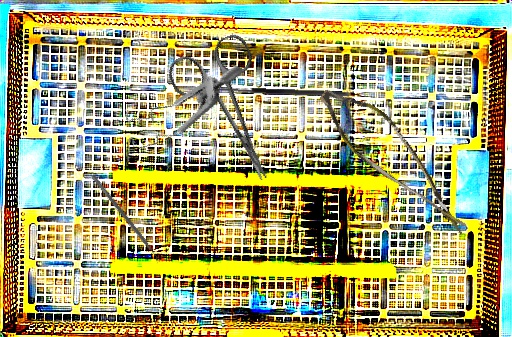Hook Surgical: (211, 86, 350, 104)
Iris Scissors: (163, 30, 300, 198)
Micro Scissor: (299, 79, 495, 236)
Spatula Surgical: (86, 173, 164, 266)
Speculum: (114, 30, 243, 176)
